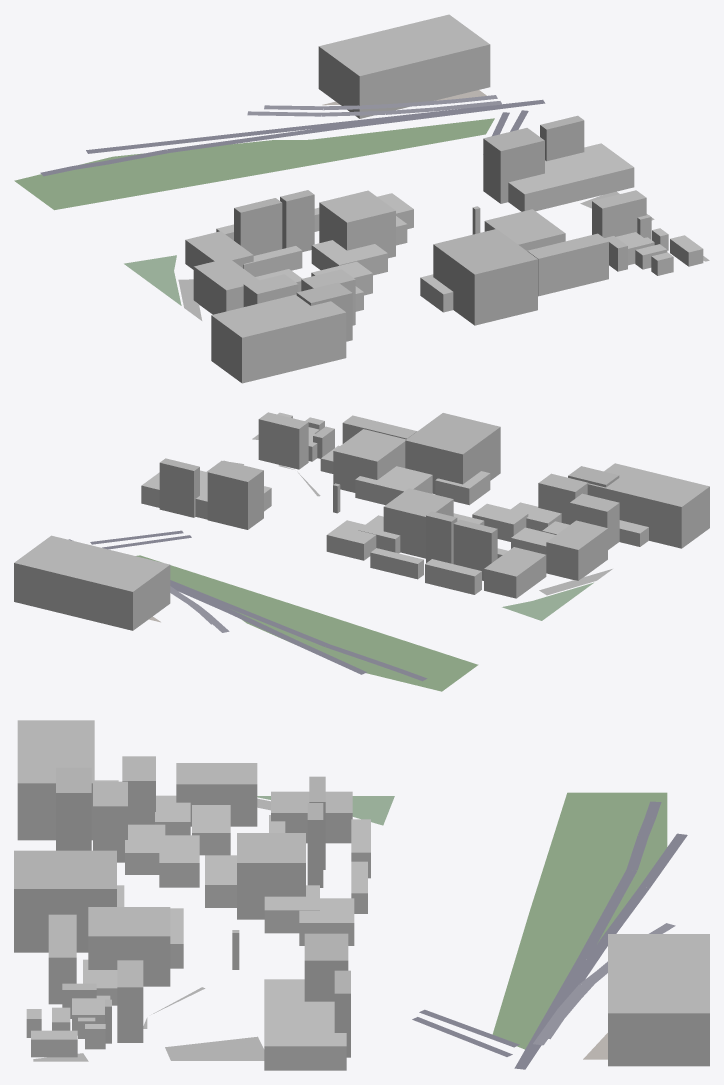
Rendered from 129_89_mid.glb.
3 renders of one model, top to bottom at view 1: azimuth 30°, elevation 25°; view 2: azimuth 150°, elevation 25°; view 3: azimuth 270°, elevation 25°, orthographic. The views are drawn at different scales.
Bounding box in the file's own units: 572 × 62.38 × 549.
